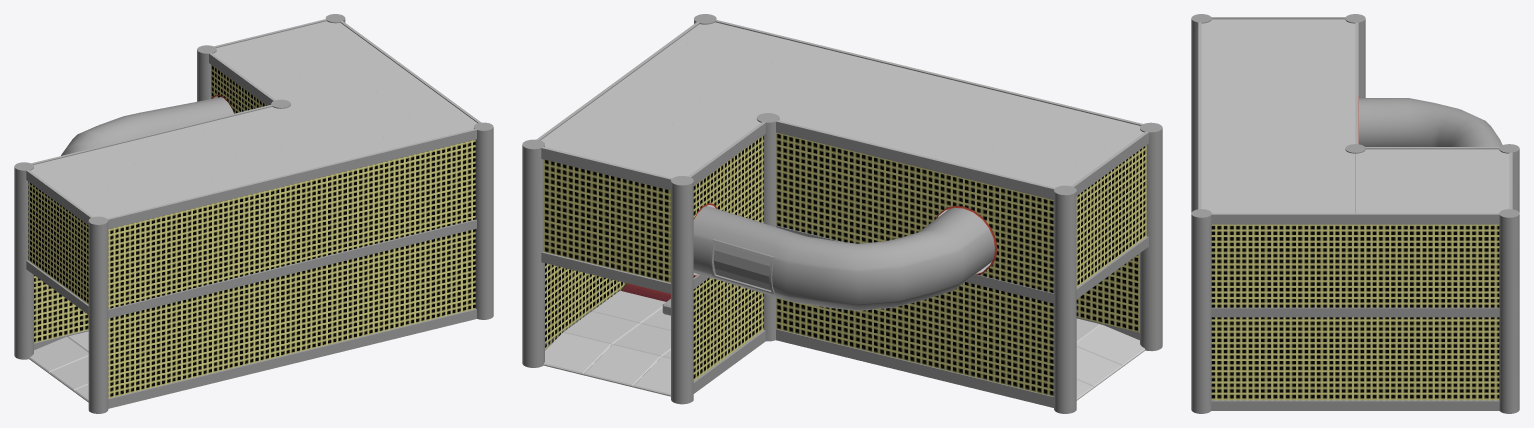
Rendered from FullJaula.fbx.
The picture shows the model from 3 angles, left to right: view 1: azimuth 30°, elevation 25°; view 2: azimuth 150°, elevation 25°; view 3: azimuth 270°, elevation 25°; orthographic projection. The views are drawn at different scales.
Visible parts, largest first — view 1: Redes, RedesLimite, Tubo, FloorPice67, FloorPice30, FloorPice49, FloorPice36, FloorPice39, FloorPice40, FloorPice48, FloorPice54, FloorPice58 (+29 smaller); view 2: Redes, RedesLimite, Tubo, FloorPice30 (×2), FloorPice35 (×2), FloorPice31 (×2), FloorPice62, FloorPice63, TuboVentana, FloorPice65, FloorPice46, FloorPice37 (+33 smaller); view 3: Redes, RedesLimite, Tubo, FloorPice45, FloorPice46, FloorPice54, FloorPice55, FloorPice56, FloorPice47, FloorPice31, FloorPice32, FloorPice34 (+27 smaller).
Part boxes in pixels (left/top/right/bottom): Redes: left=28, top=65, right=475, bottom=398; RedesLimite: left=14, top=14, right=493, bottom=413; Tubo: left=61, top=97, right=233, bottom=155; FloorPice67: left=29, top=336, right=88, bottom=373; FloorPice30: left=317, top=37, right=384, bottom=65; FloorPice49: left=220, top=133, right=287, bottom=161; FloorPice36: left=367, top=73, right=433, bottom=101; FloorPice39: left=306, top=112, right=372, bottom=140; FloorPice40: left=349, top=102, right=415, bottom=130; FloorPice48: left=196, top=115, right=262, bottom=143; FloorPice54: left=110, top=136, right=176, bottom=164; FloorPice58: left=92, top=164, right=158, bottom=192; Redes: left=543, top=132, right=1146, bottom=396; RedesLimite: left=522, top=14, right=1162, bottom=413; Tubo: left=693, top=206, right=994, bottom=310; FloorPice30 (×2): left=562, top=103, right=639, bottom=344; FloorPice35 (×2): left=591, top=82, right=668, bottom=323; FloorPice31 (×2): left=612, top=115, right=689, bottom=356; FloorPice62: left=583, top=344, right=660, bottom=387; FloorPice63: left=543, top=332, right=611, bottom=374; TuboVentana: left=713, top=244, right=771, bottom=290; FloorPice65: left=1076, top=324, right=1145, bottom=366; FloorPice46: left=797, top=77, right=874, bottom=109; FloorPice37: left=669, top=74, right=746, bottom=106; Redes: left=1211, top=96, right=1499, bottom=400; RedesLimite: left=1191, top=14, right=1519, bottom=413; Tubo: left=1359, top=98, right=1502, bottom=146; FloorPice45: left=1201, top=127, right=1252, bottom=149; FloorPice46: left=1253, top=127, right=1304, bottom=149; FloorPice54: left=1304, top=62, right=1355, bottom=84; FloorPice55: left=1253, top=62, right=1304, bottom=84; FloorPice56: left=1201, top=62, right=1252, bottom=84; FloorPice47: left=1304, top=127, right=1355, bottom=149; FloorPice31: left=1406, top=171, right=1457, bottom=192; FloorPice32: left=1406, top=149, right=1457, bottom=170; FloorPice34: left=1355, top=171, right=1406, bottom=192.
Bounding box in the file's own units: 940 × 422 × 640.
